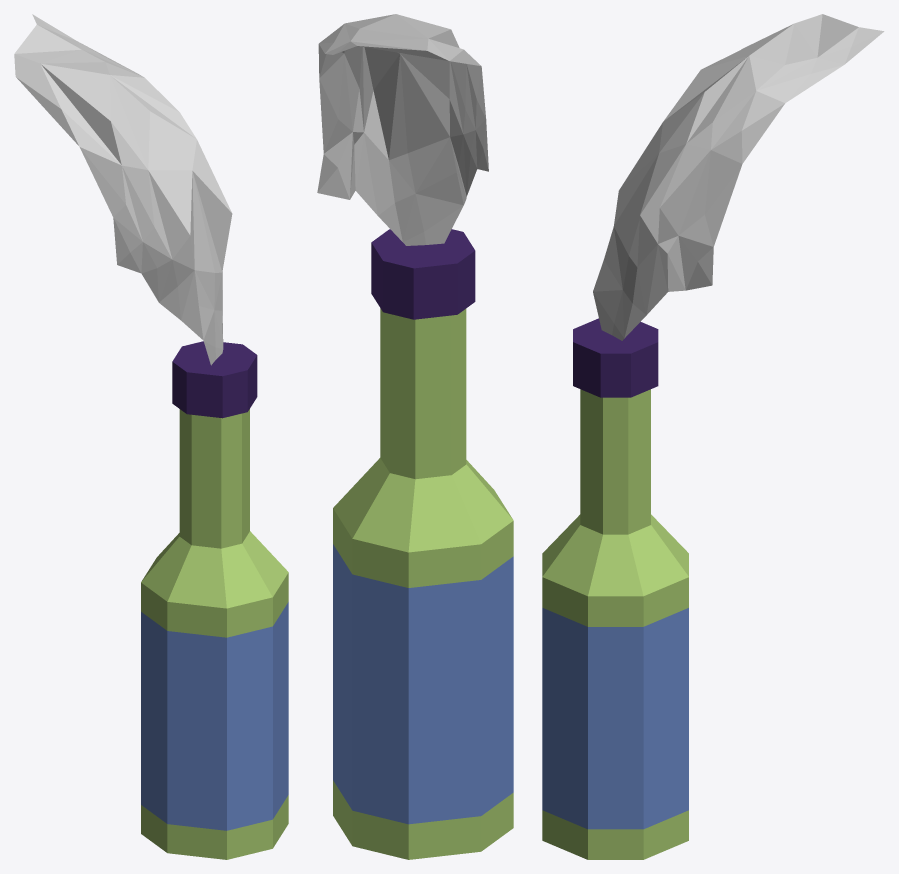
The model's file is molotov cocktail.fbx.
The picture shows the model from 3 angles, left to right: view 1: azimuth 30°, elevation 25°; view 2: azimuth 150°, elevation 25°; view 3: azimuth 270°, elevation 25°; orthographic projection. The views are drawn at different scales.
Parts seen in each view (by area): view 1: Cube; view 2: Cube; view 3: Cube.
Part boxes in pixels (box(x1,y1,x2,y2)): Cube: box(14, 14, 288, 859); Cube: box(317, 14, 513, 859); Cube: box(542, 14, 884, 859).
Size of the model in its own units: 14.24 by 58.42 by 23.54.
